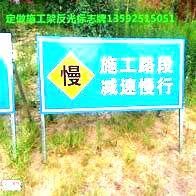sign: (38, 37, 181, 109)
